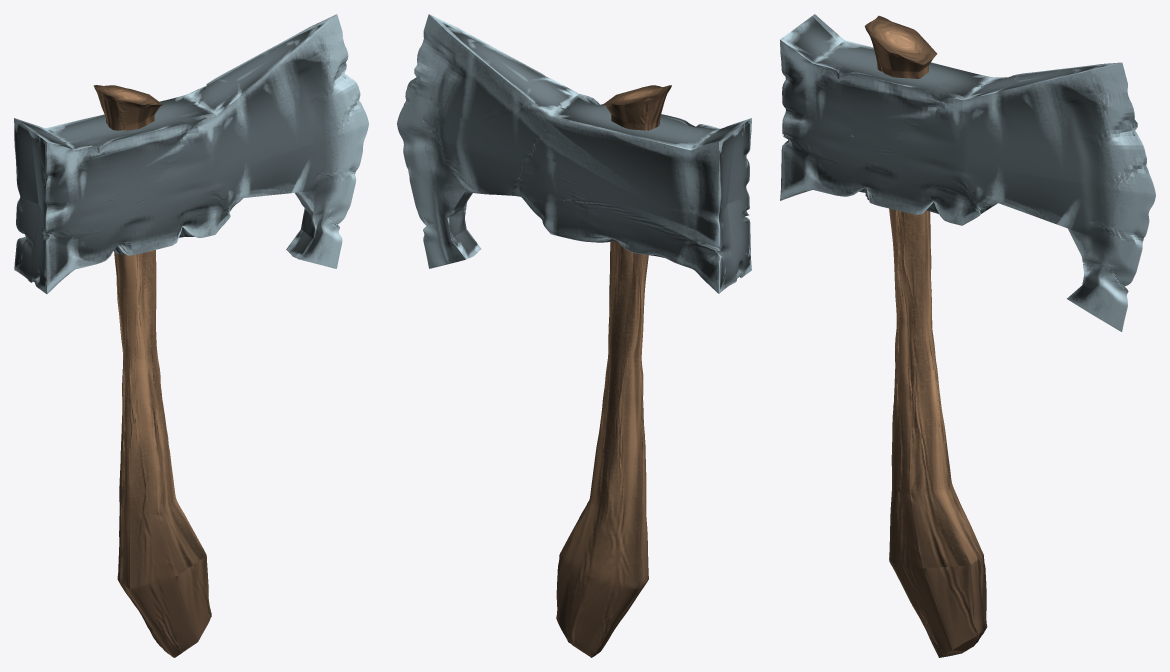
The model's file is Axt 4.fbx.
3 renders of one model, left to right at view 1: azimuth 30°, elevation 25°; view 2: azimuth 150°, elevation 25°; view 3: azimuth 330°, elevation 25°, orthographic. The views are drawn at different scales.
Parts seen in each view (by area): view 1: Cylinder; view 2: Cylinder; view 3: Cylinder.
Boxes of the visible parts, bbox=[...] form: Cylinder: bbox=[14, 14, 368, 657]; Cylinder: bbox=[397, 14, 751, 657]; Cylinder: bbox=[780, 14, 1155, 657].
Size of the model in its own units: 213 by 358 by 35.69.
2 materials, 2 textured.
